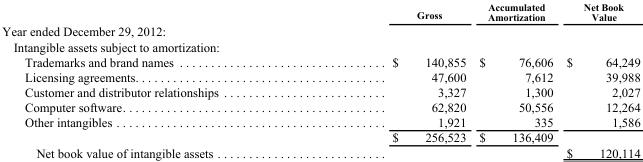table: (1, 0, 639, 159)
table column: (1, 0, 304, 159), (304, 0, 472, 159), (472, 0, 559, 159), (559, 0, 639, 159)
table column header: (1, 0, 639, 23)
table projected row header: (1, 23, 639, 38), (1, 38, 639, 53)
table row: (1, 0, 639, 23), (1, 53, 639, 69), (1, 23, 639, 38), (1, 38, 639, 53), (1, 69, 639, 84), (1, 84, 639, 99), (1, 99, 639, 114), (1, 114, 639, 129), (1, 129, 639, 144), (1, 144, 639, 159)
